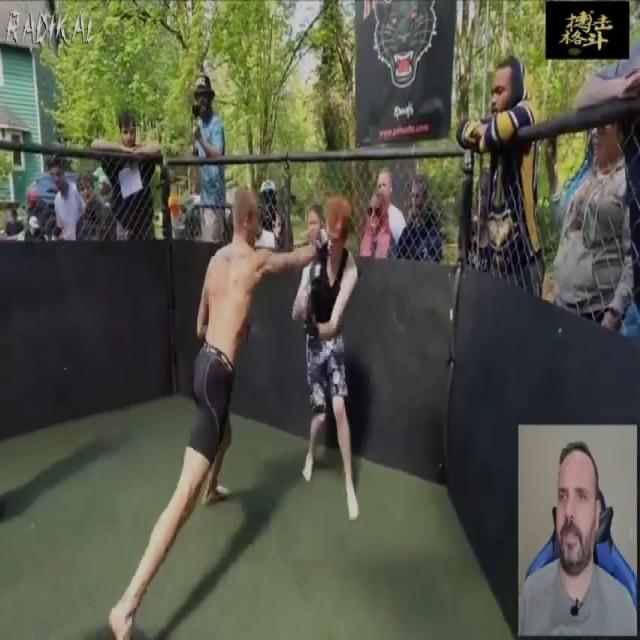fight: (101, 170, 372, 638)
